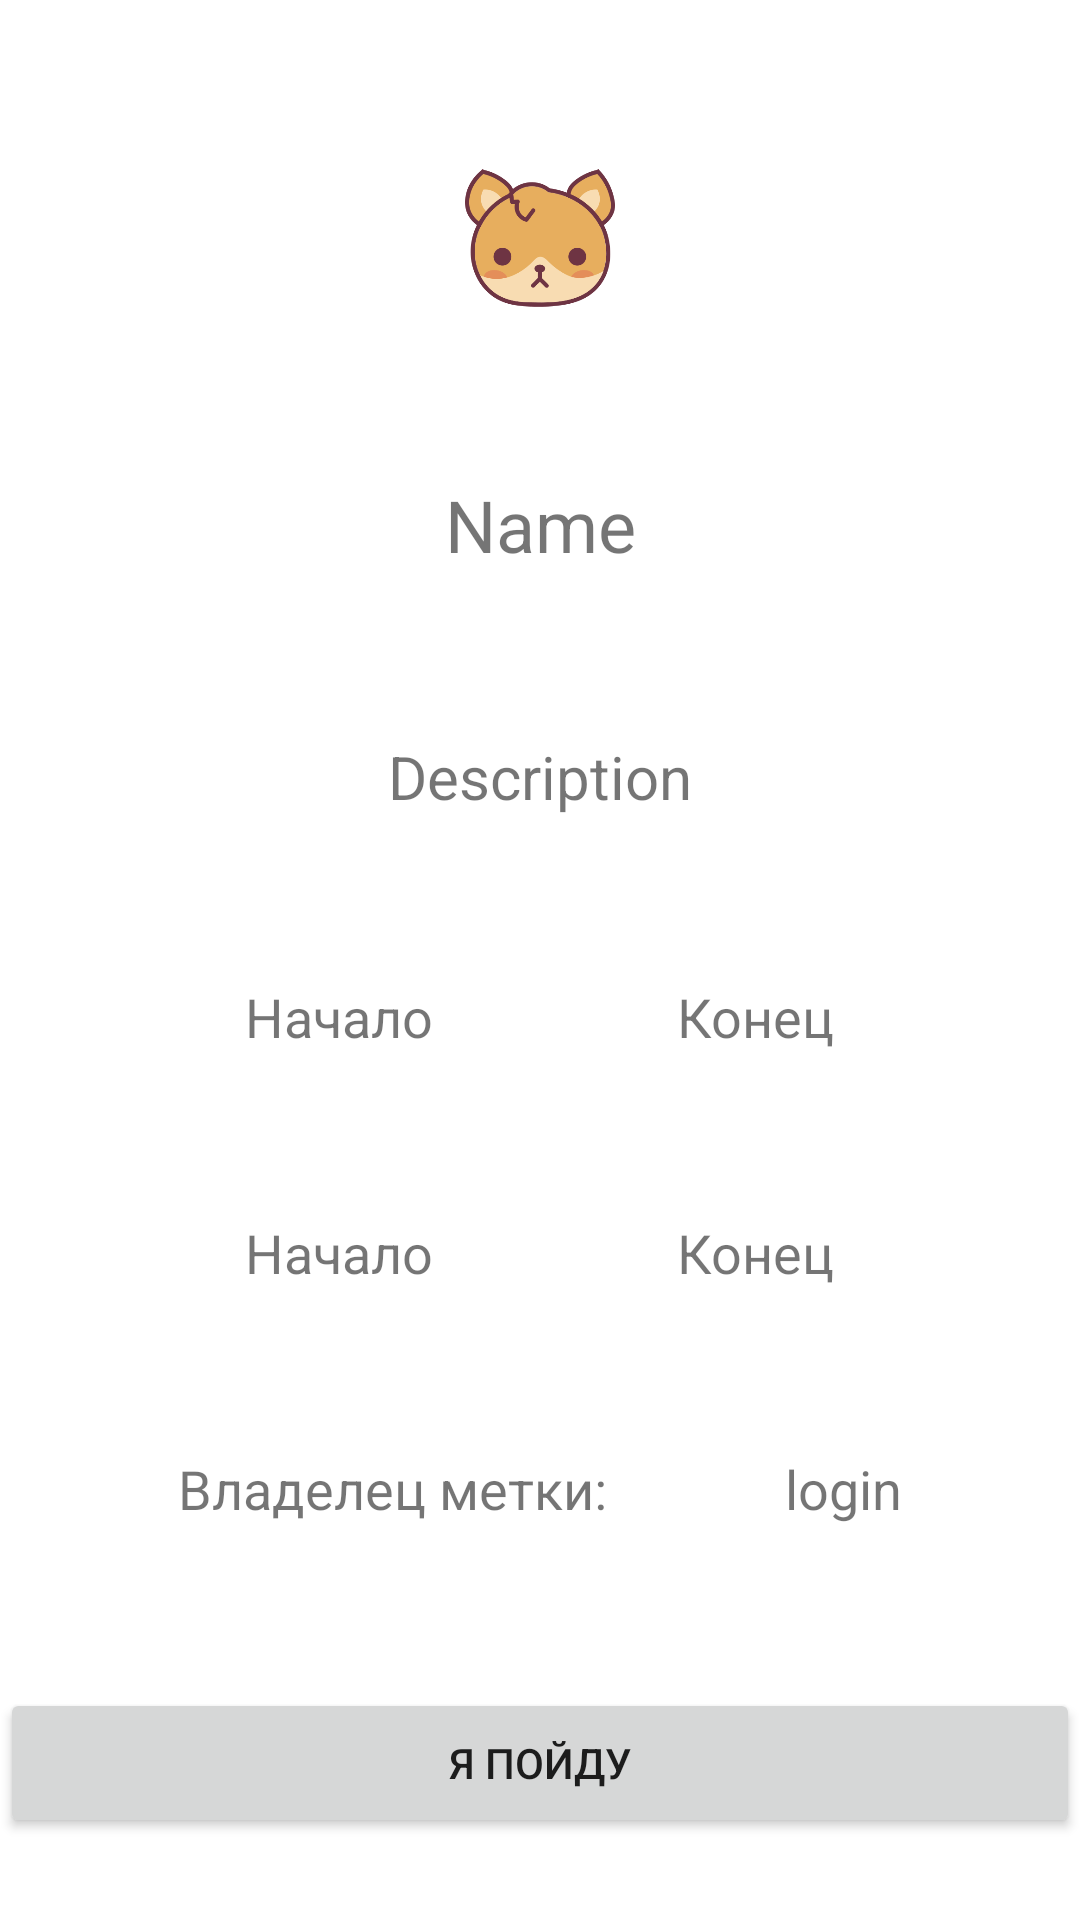

Icons on this 1080 x 1920 Android screen, each with the point to tap as (x=x, y=y):
fox: (x=540, y=238)
